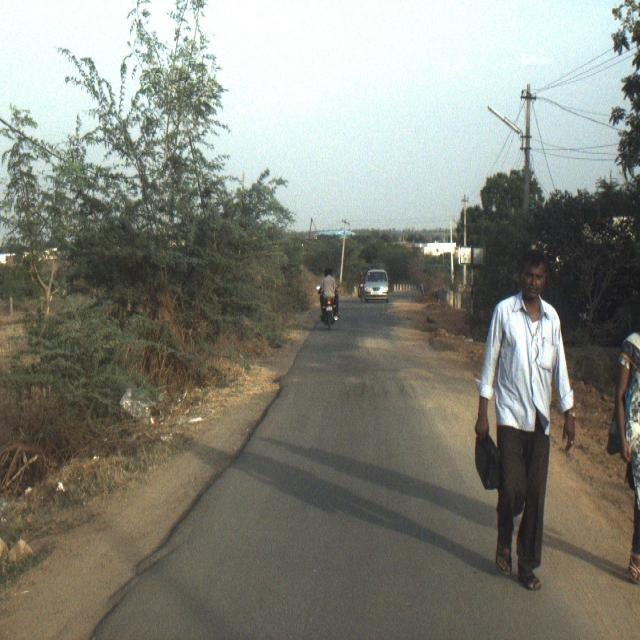high: (451, 250, 580, 605), (599, 267, 640, 623)
